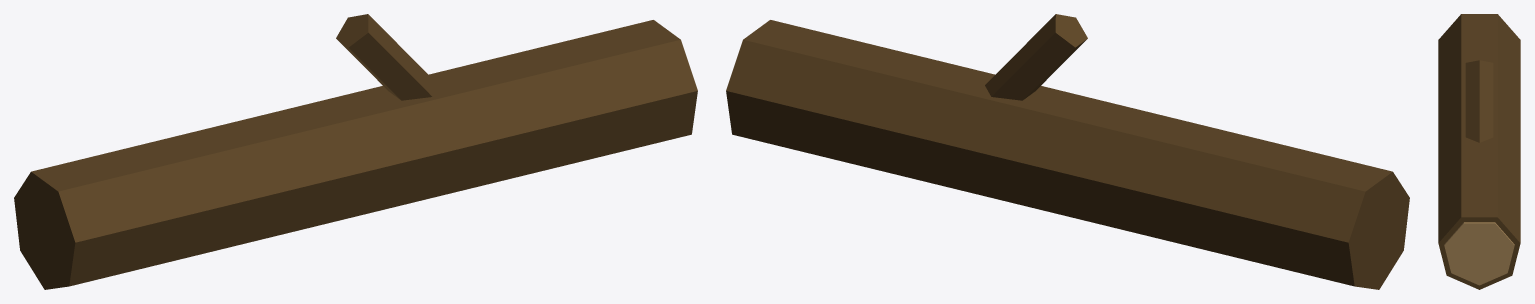
The model's file is fallen_log.glb.
3 renders of one model, left to right at view 1: azimuth 30°, elevation 25°; view 2: azimuth 150°, elevation 25°; view 3: azimuth 270°, elevation 25°, orthographic. The views are drawn at different scales.
Visible parts, largest first — view 1: model; view 2: model; view 3: model.
Part boxes in pixels (x1,y1,x2,y2): model: (14, 14, 697, 289); model: (726, 14, 1409, 289); model: (1438, 14, 1520, 289).
Bounding box in the file's own units: 4.02 × 1.21 × 0.6824.
